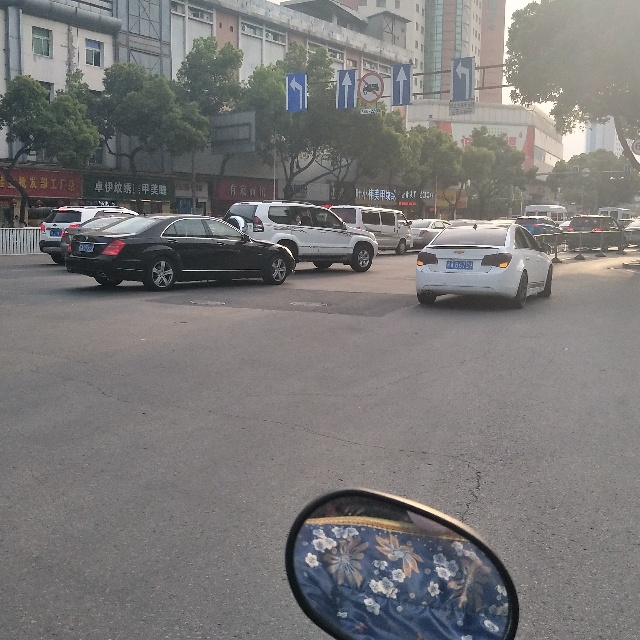left: (450, 61, 474, 102), (287, 73, 307, 108)
straight: (336, 65, 358, 108), (392, 61, 409, 104)
